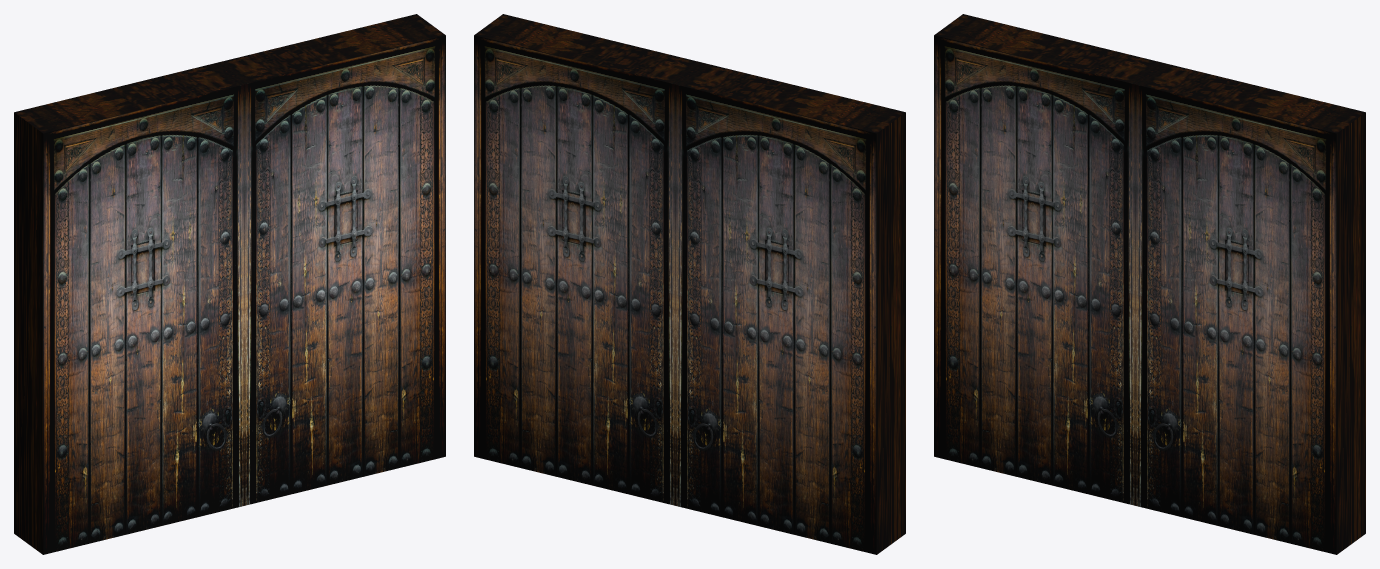
File: door.fbx
3 renders of one model, left to right at view 1: azimuth 30°, elevation 25°; view 2: azimuth 150°, elevation 25°; view 3: azimuth 330°, elevation 25°, orthographic.
Parts seen in each view (by area): view 1: Door2, Door1; view 2: Door2, Door1; view 3: Door1, Door2.
Boxes of the visible parts, left/top/right/bottom form: Door2: left=14, top=63, right=244, bottom=554; Door1: left=216, top=14, right=445, bottom=505; Door2: left=675, top=63, right=905, bottom=554; Door1: left=474, top=14, right=703, bottom=505; Door1: left=1135, top=63, right=1365, bottom=554; Door2: left=934, top=14, right=1163, bottom=505.
Bounding box in the file's own units: 800 × 800 × 100.
